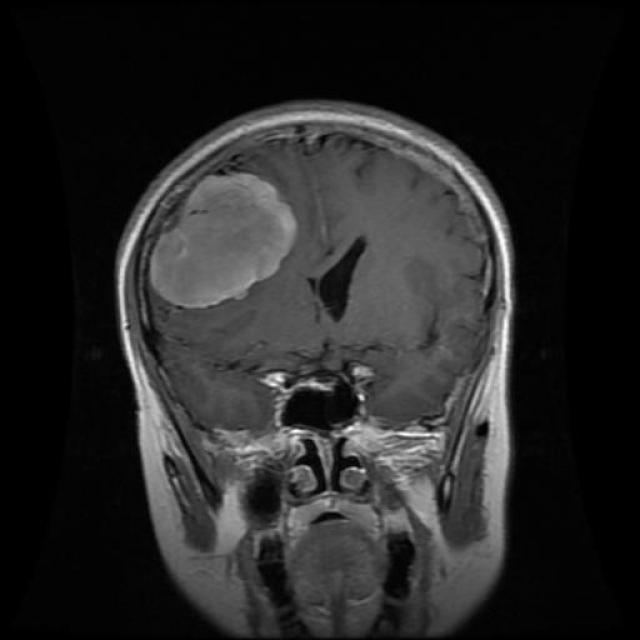meningioma: (150, 172, 298, 309)
